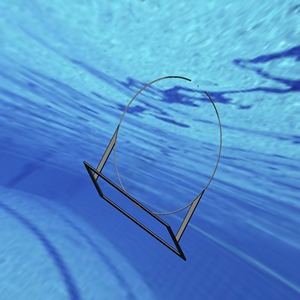circle: (81, 75, 224, 260)
